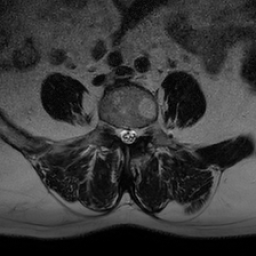CCS_stenosis: (124, 121, 131, 149)
LFS_normal: (138, 118, 146, 144)
LLS_normal: (131, 118, 138, 147)
RFS_normal: (109, 117, 117, 142)
RLS_normal: (117, 120, 124, 146)
